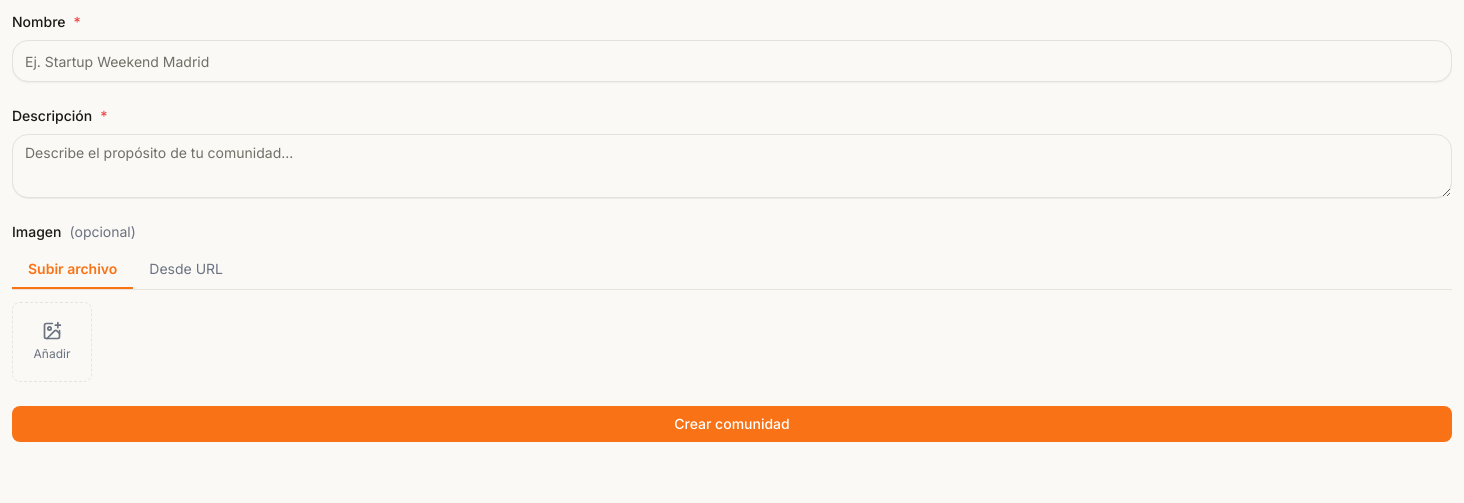
Test: CommunityForm — Error genérico › muestra el mensaje del Error genérico en el serverError global
Type "Mi Comunidad Test" into the field labelled "Nombre *". click: (732, 61)
box: [12, 40, 1452, 82]
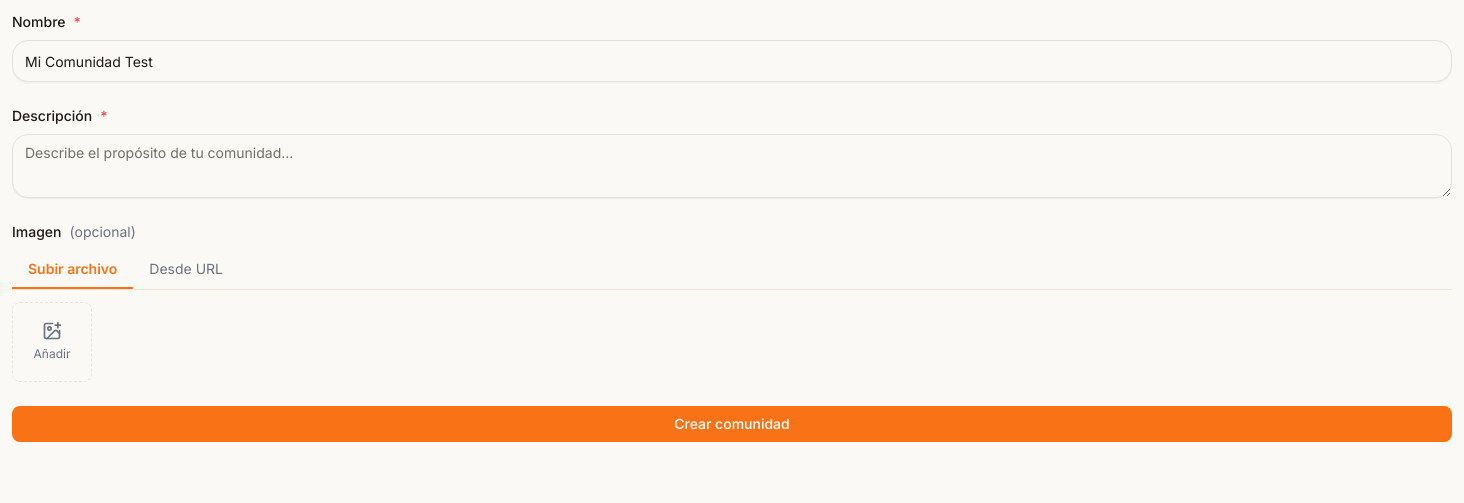
Type "Una descripción válida para la comunidad." into the text box labelled "Descripción *". click: (732, 166)
box: [12, 134, 1452, 198]
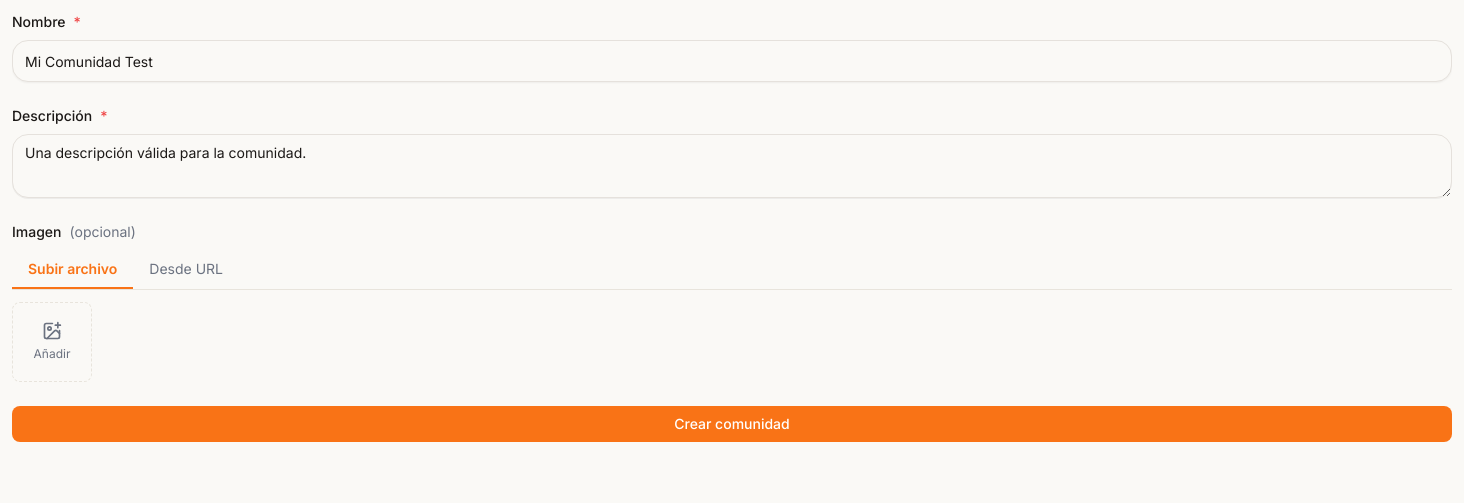
Click the button "Crear comunidad". click: (732, 424)
box: [12, 406, 1452, 442]
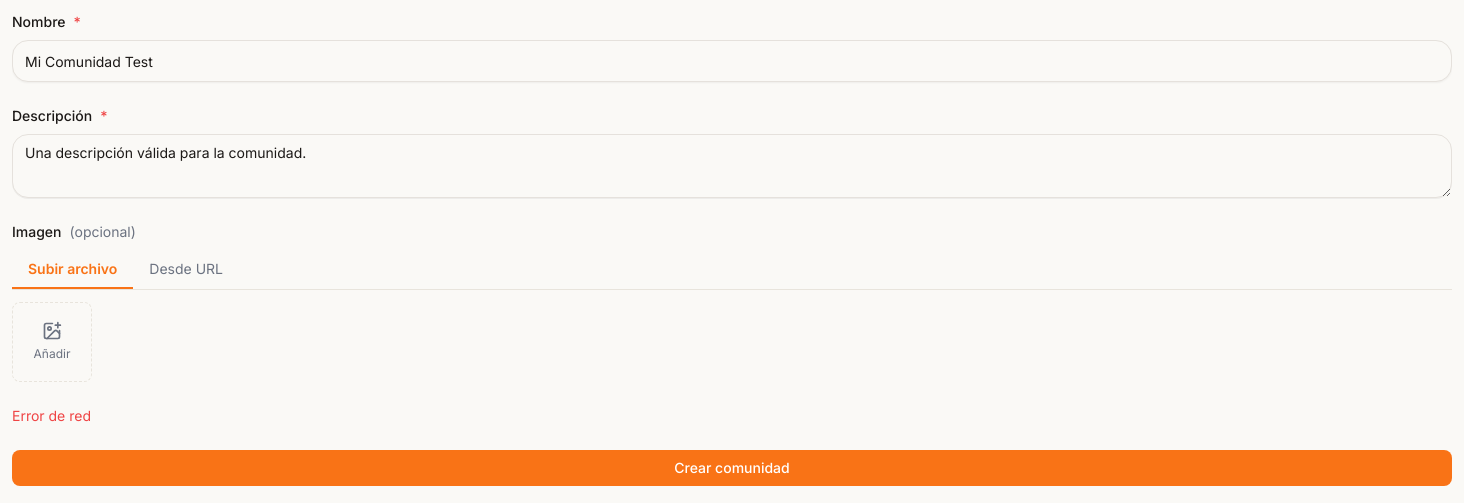
Expected: the message reads "Error de red", [12, 407, 91, 424]
